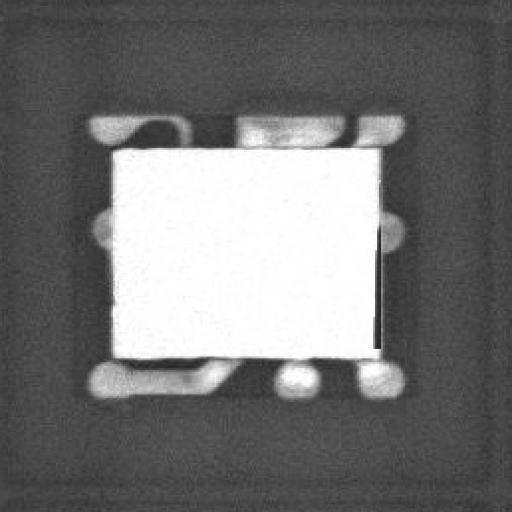DIE_BROKEN: (367, 226, 379, 350)
